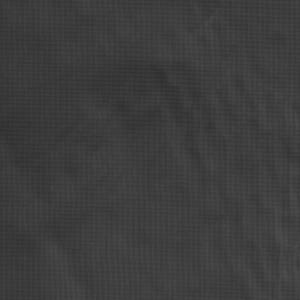Wrinkle: (141, 1, 300, 300), (2, 95, 108, 300)
